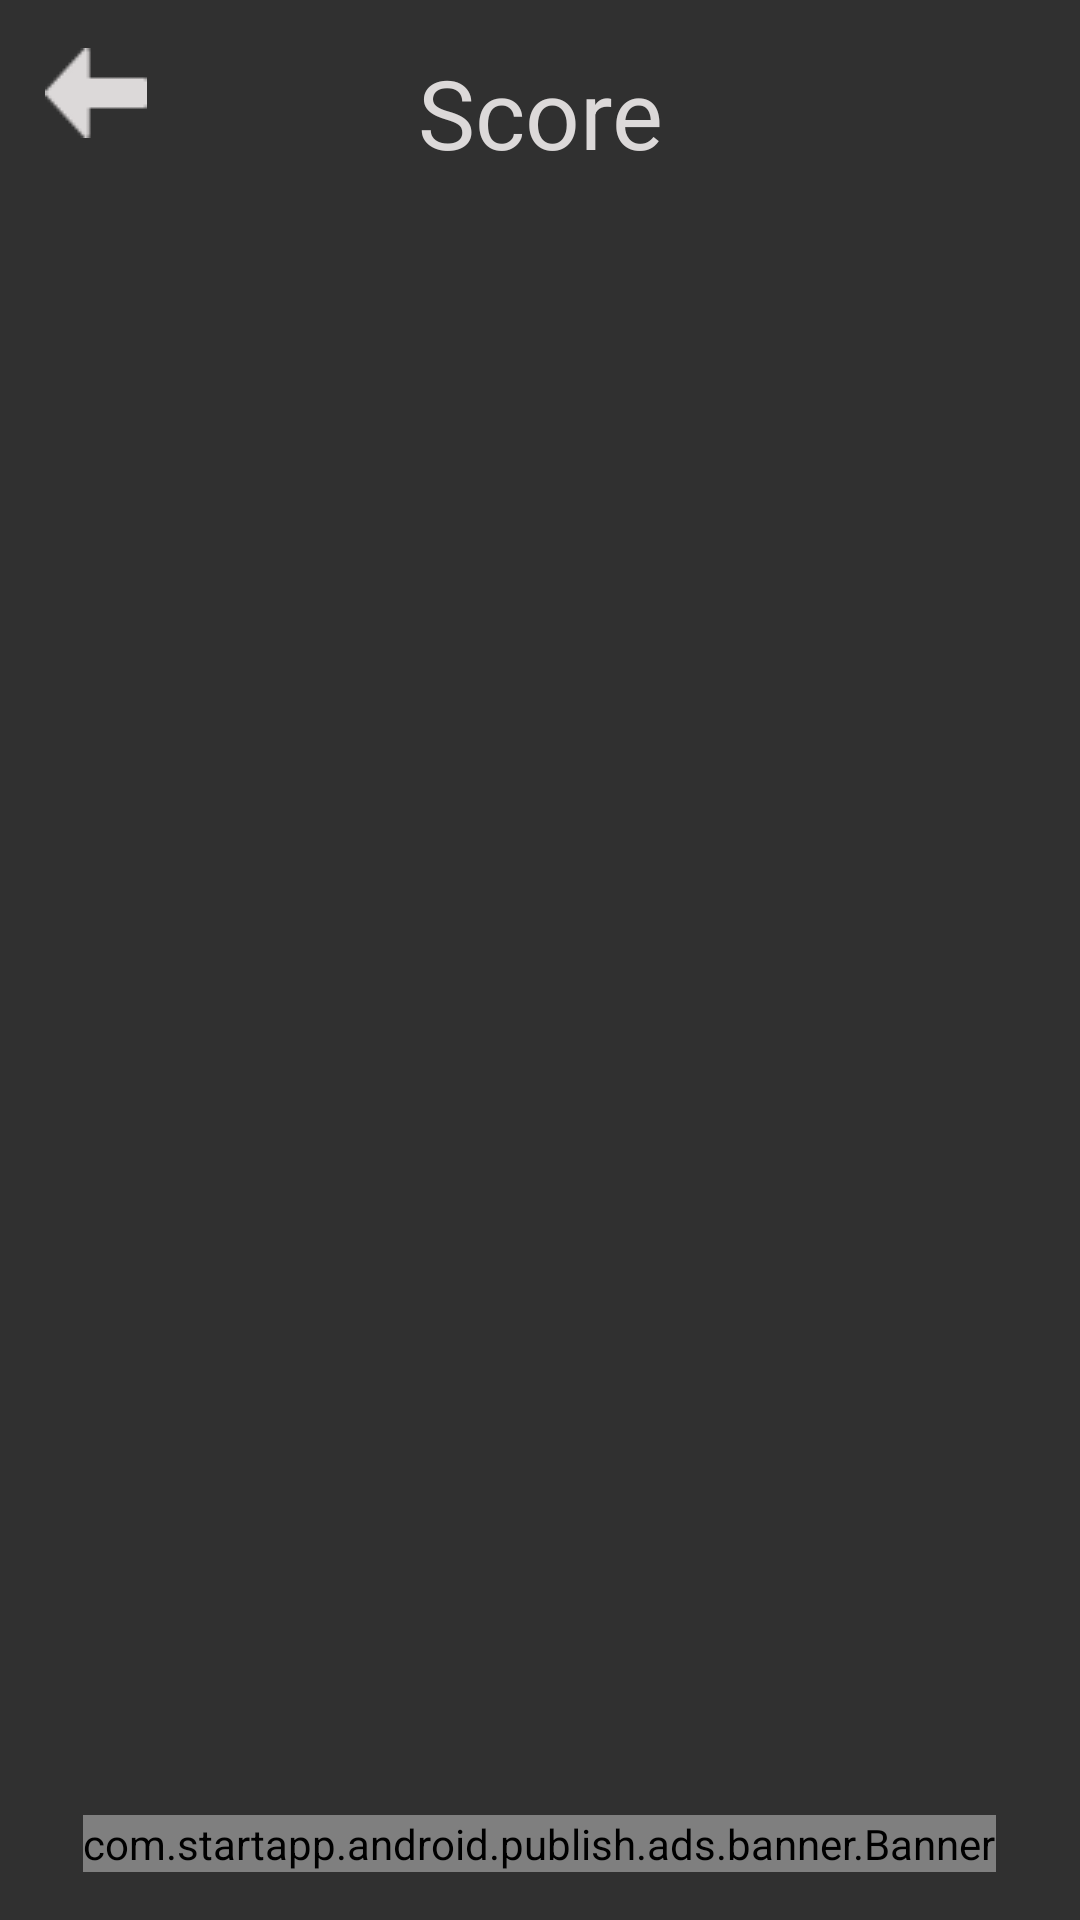

Locate icon controls on the screen. Image size 1080*1920, boxes as bbox=(x1, y1, x2, y2).
back: bbox=(45, 48, 147, 138)
